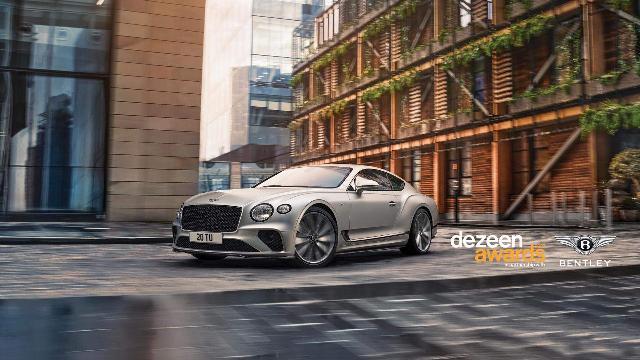bentley: (170, 163, 440, 268)
